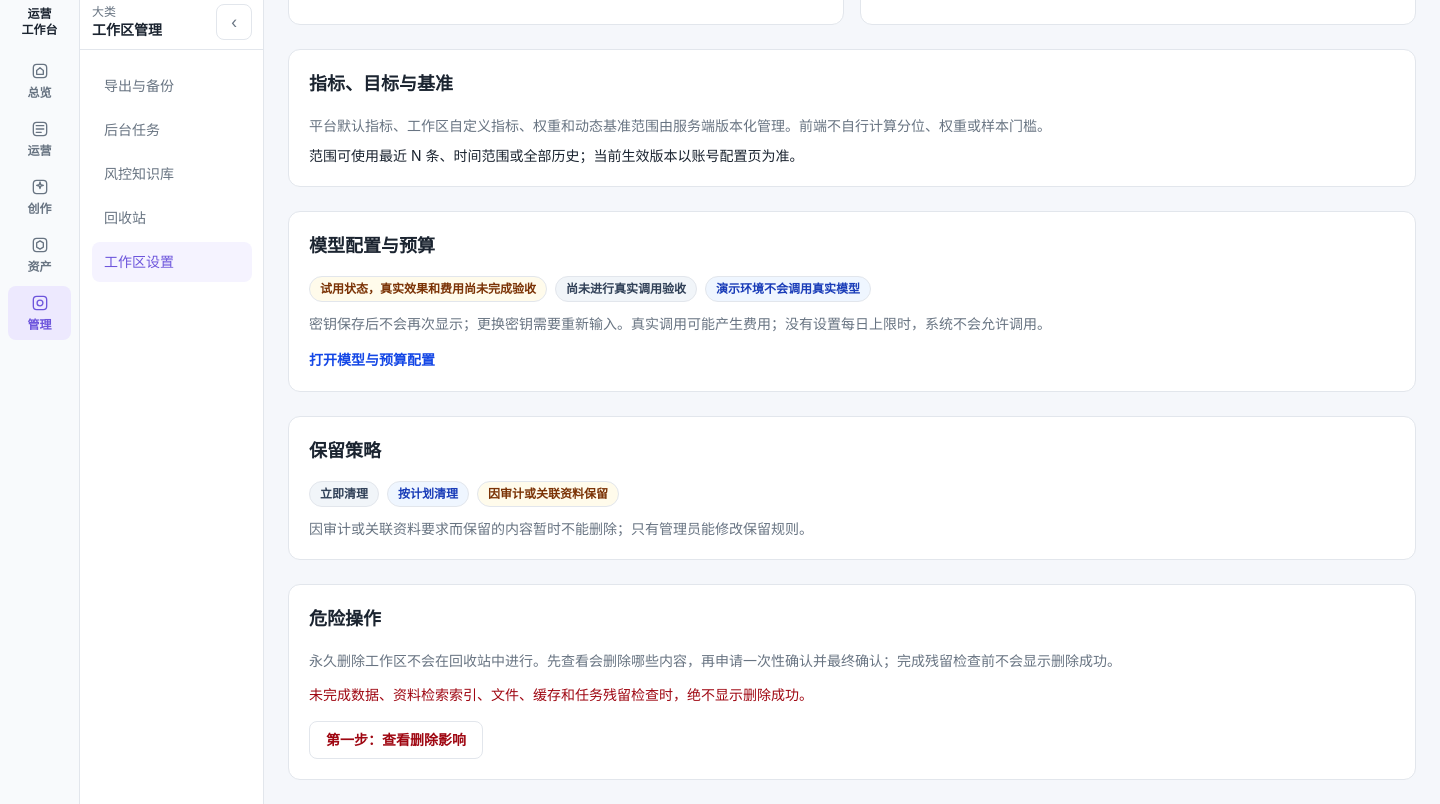
easy settings translate primary model, retention, and deletion-impact terminology
This screenshot has width=1440, height=804.
(page scrolled)
Expected: the text "尚未进行真实调用验收" is shown, [555, 276, 697, 302]
Expected: the text "演示环境不会调用真实模型" is shown, [705, 276, 871, 302]
Click the button "第一步：查看删除影响": (396, 740) [309, 721, 483, 759]
(page scrolled)
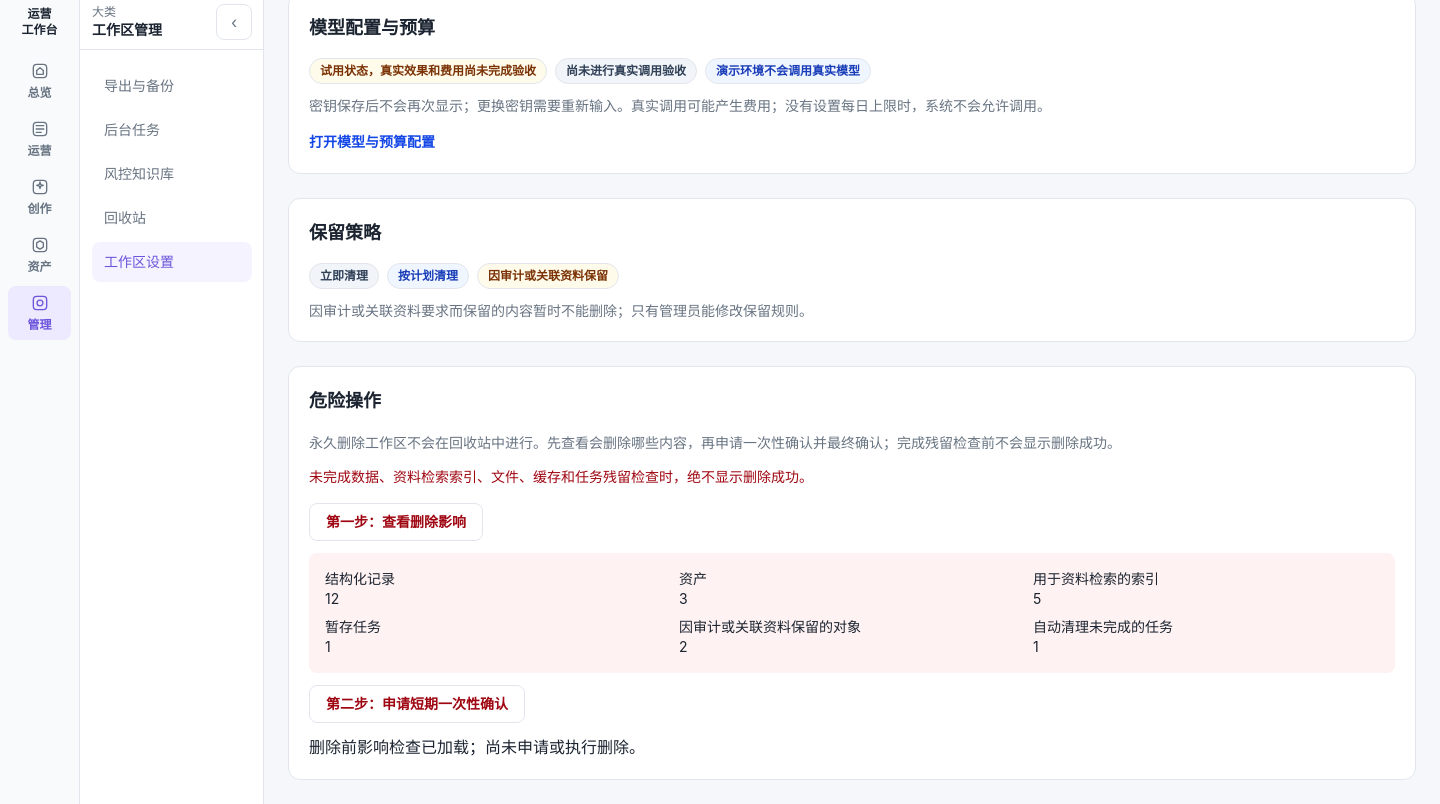
Expected: the text "用于资料检索的索引" is shown, [1033, 570, 1159, 587]
Expected: the text "自动清理未完成的任务" is shown, [1033, 618, 1173, 635]
